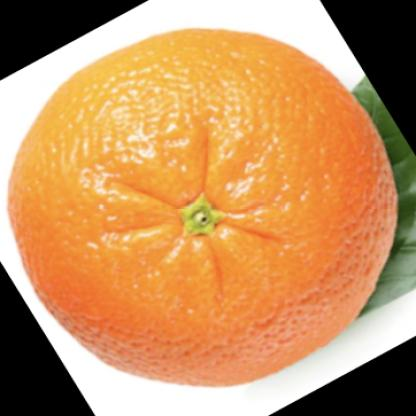fresh: (10, 27, 401, 387)
